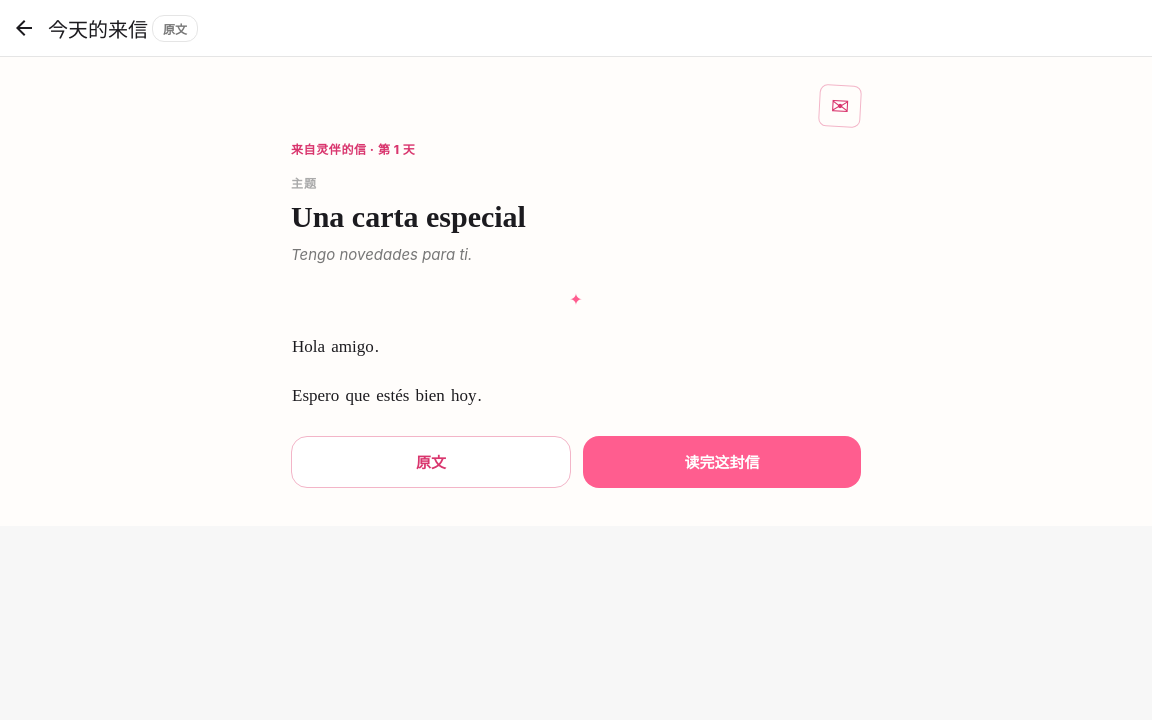
Test: Soul Mate MVP › toggles bilingual mode and displays paragraph translations in a story letter
The width and height of the screenshot is (1152, 720).
Click the button with class "mode-toggle-btn" at point(431, 462), box x1=291 y1=436 x2=571 y2=488
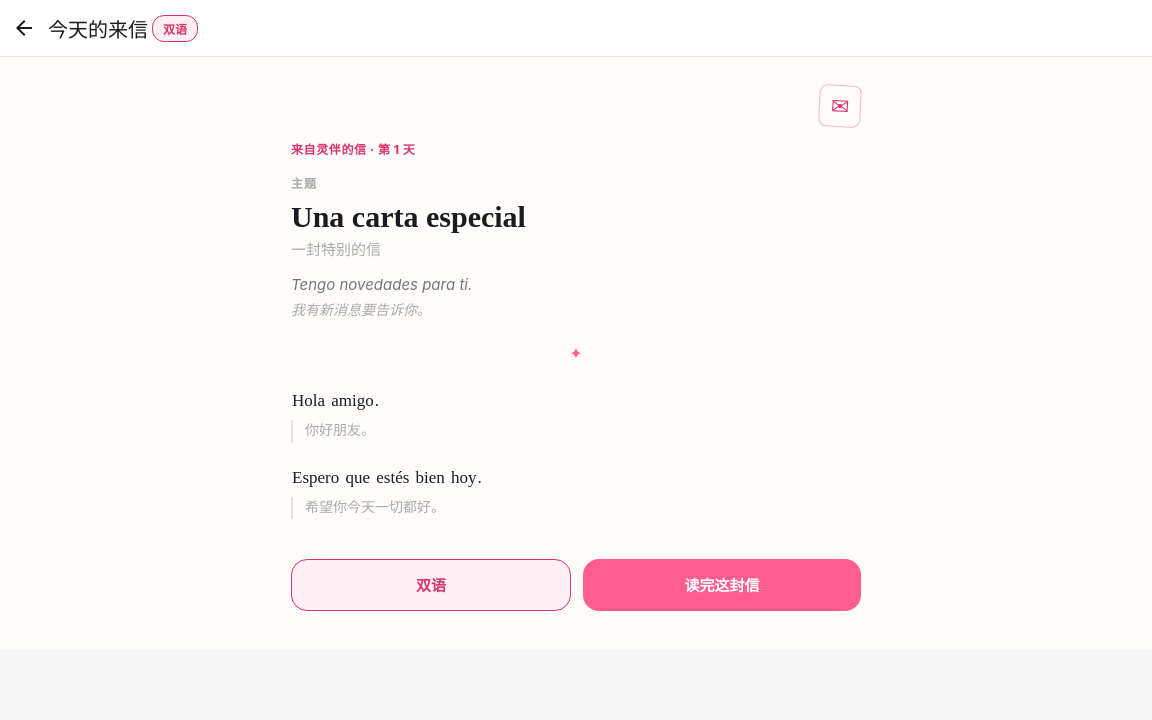
Check: the button with class "mode-toggle-btn" reads "双语"
Check: the text with class "title-translation" reads "一封特别的信", box x1=291 y1=240 x2=381 y2=259
Check: the text with class "teaser-translation" reads "我有新消息要告诉你。", box x1=291 y1=301 x2=431 y2=318
Note: Toggle back to original
Click the button with class "mode-toggle-btn" at point(431, 585), box x1=291 y1=559 x2=571 y2=611
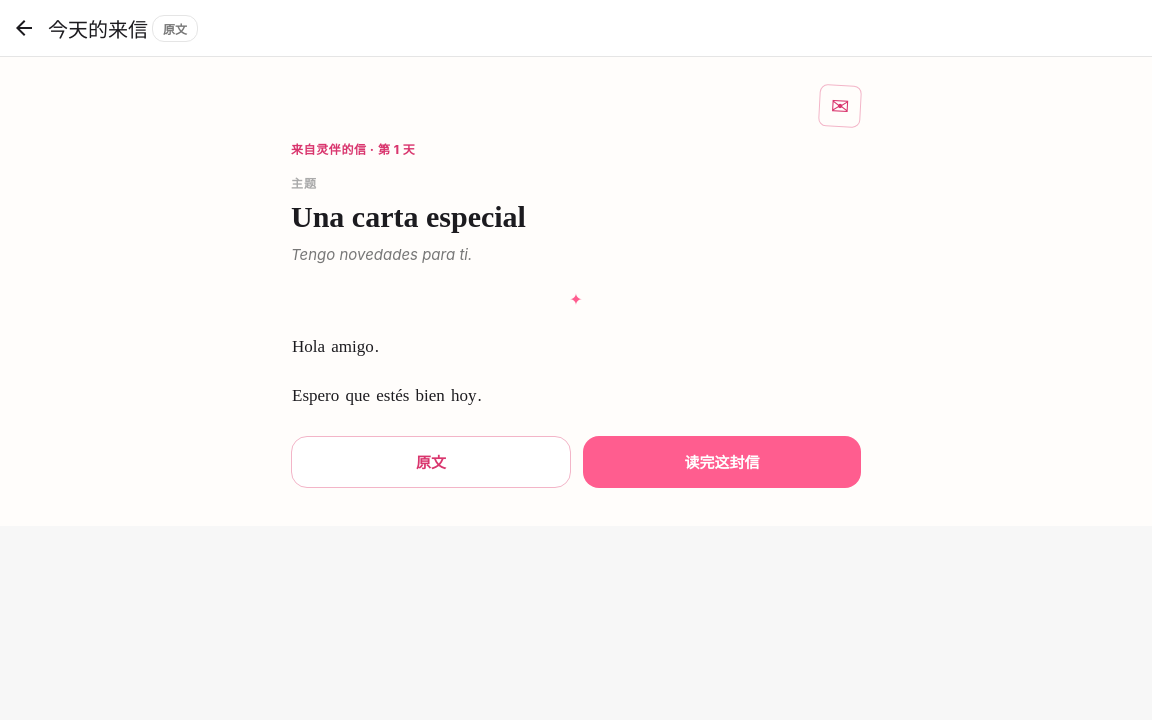
Check: the button with class "mode-toggle-btn" reads "原文", box x1=291 y1=436 x2=571 y2=488
